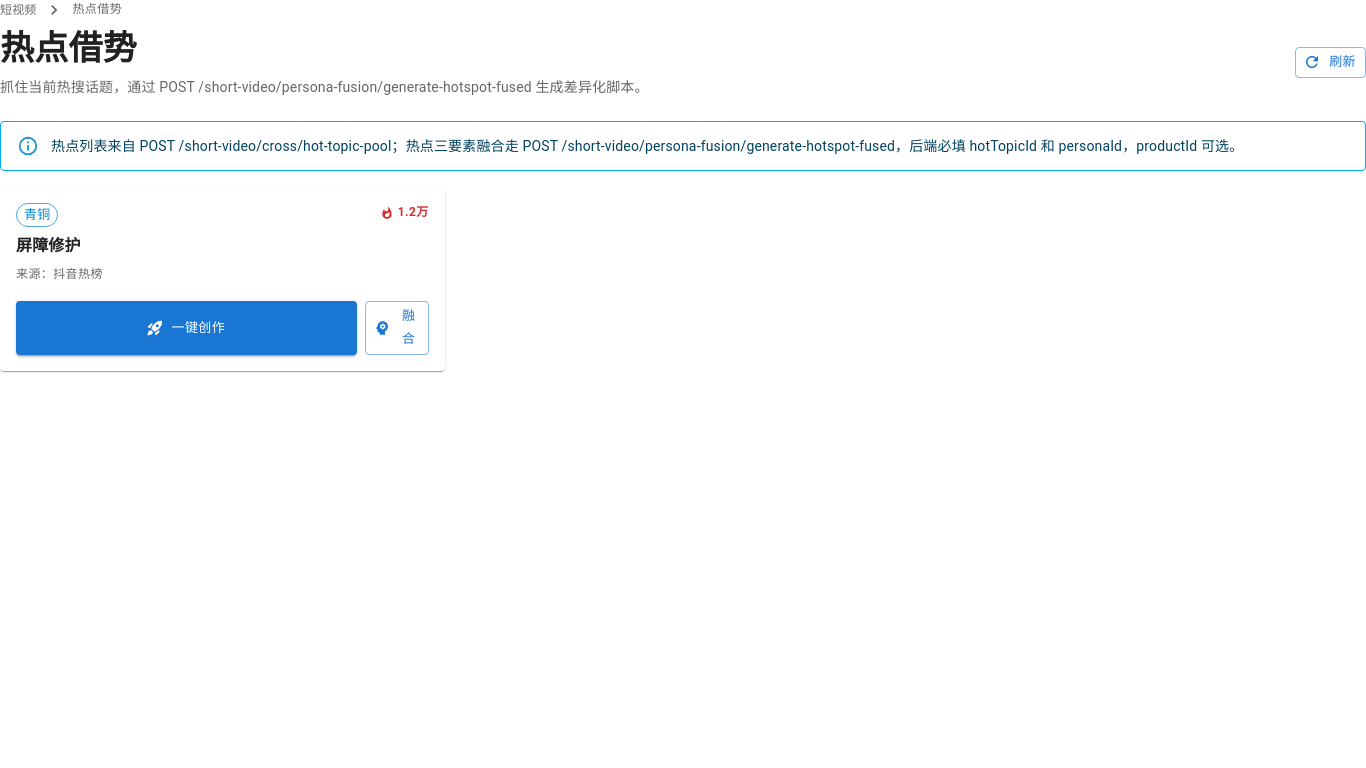
ShortVideo ops pages › HotTopicCreationPage keeps hotspot fusion failures visible in dialog
This screenshot has width=1366, height=768.
Check: the heading "屏障修护" is shown, box [16,236,81,255]
Click the button "融合".
click(397, 328)  # box [365,301,429,355]
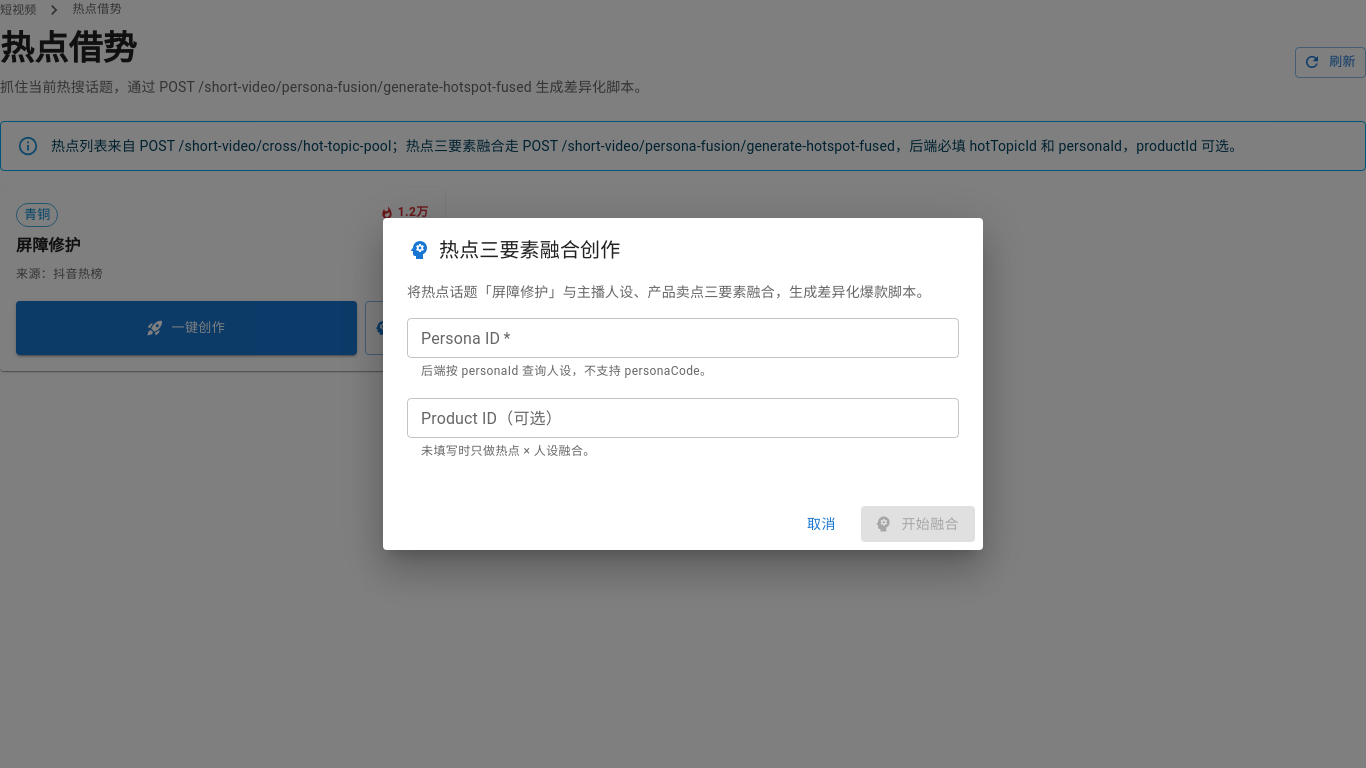
Type "999" into the number field labelled "Persona ID *".
click(683, 338); type("999")  # box [407,318,959,358]
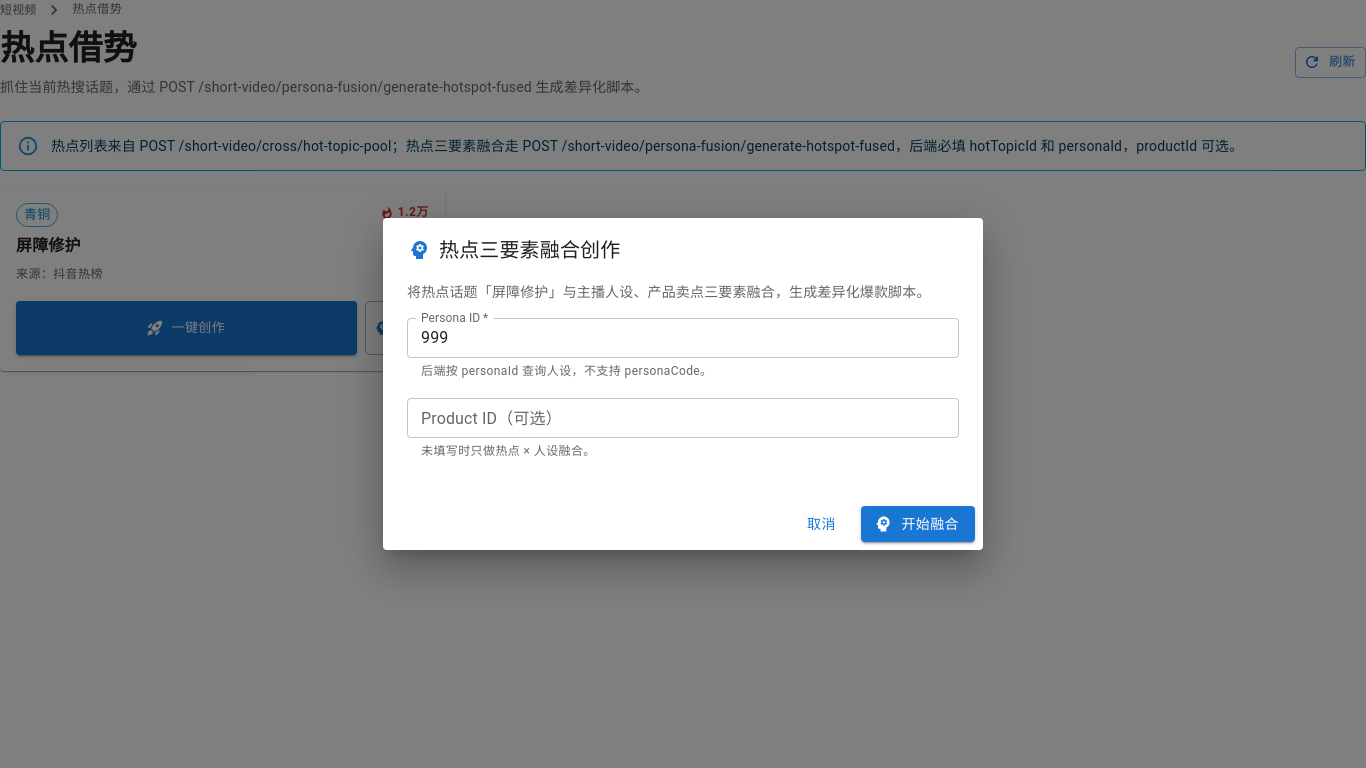
Click the button "开始融合".
click(918, 524)  # box [861,506,975,542]
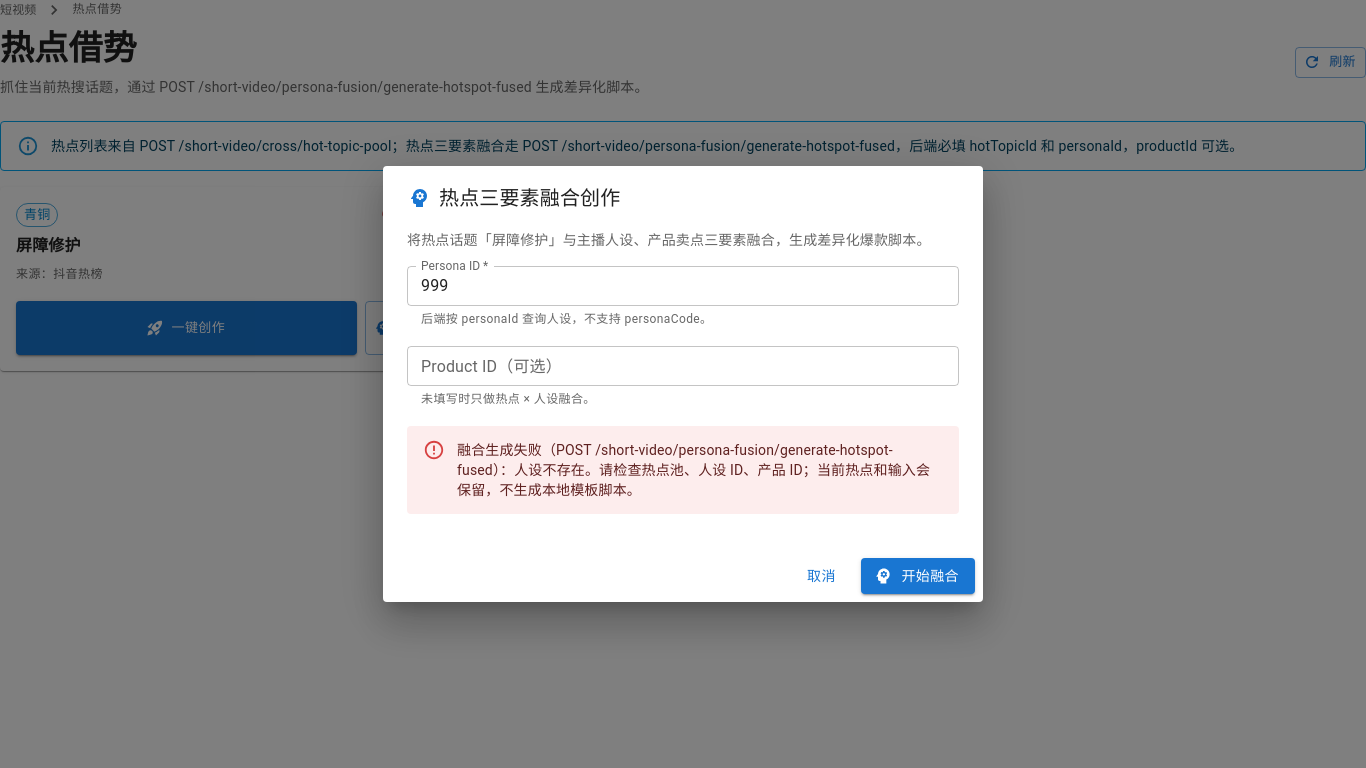
Check: the text "融合生成失败（POST /short-video/persona-fusion/generate-hotspot-fused）：人设不存在" is shown, box [457,432,943,508]
